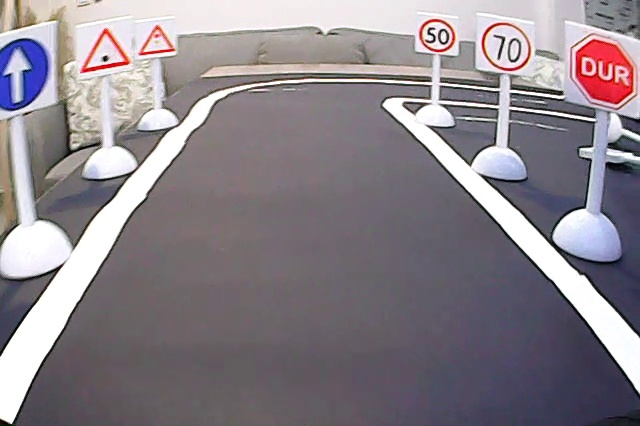green light: (76, 24, 132, 74)
red light: (138, 22, 177, 57)
speed limit 50: (418, 16, 457, 53)
speed limit 70: (479, 18, 533, 73)
stop sign: (567, 30, 639, 112)
